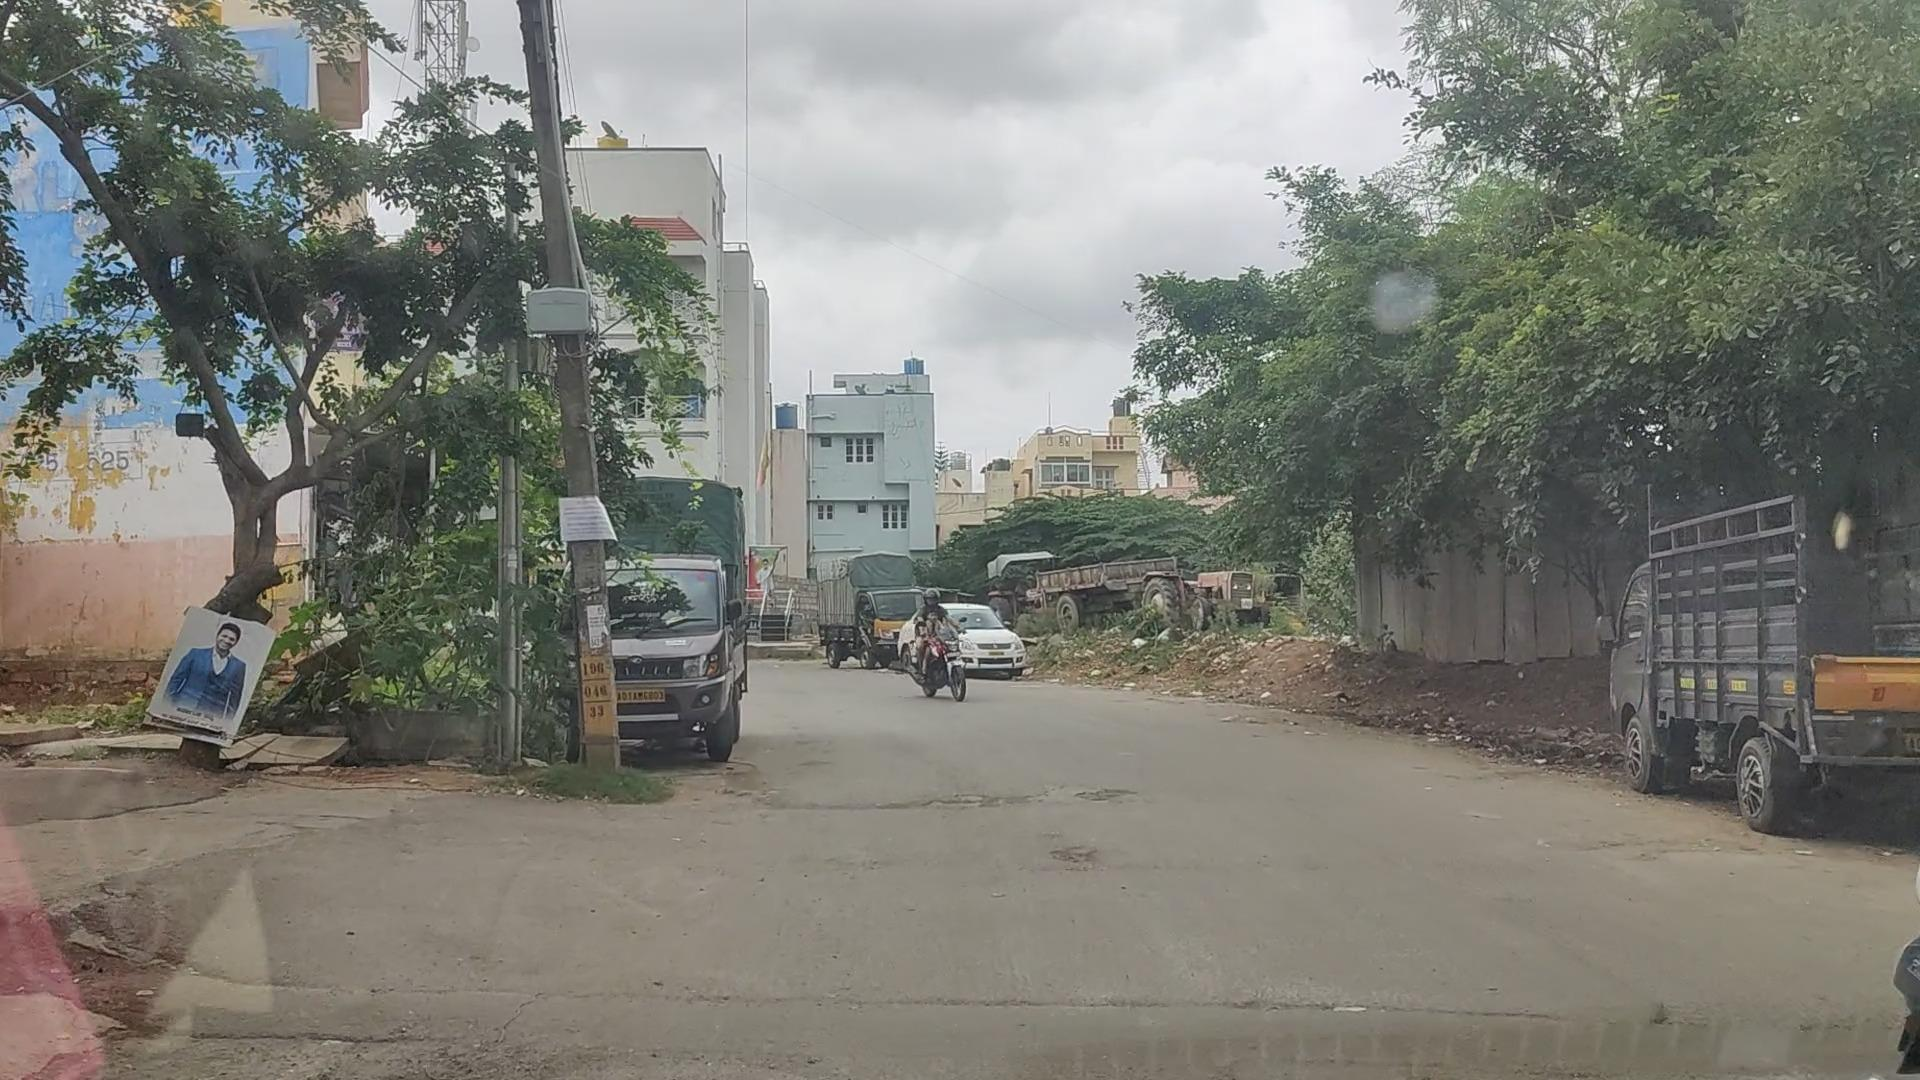LMV: (926, 604, 968, 692)
RoadDamages: (744, 789, 1050, 822), (1075, 782, 1134, 812), (1059, 840, 1097, 877)
